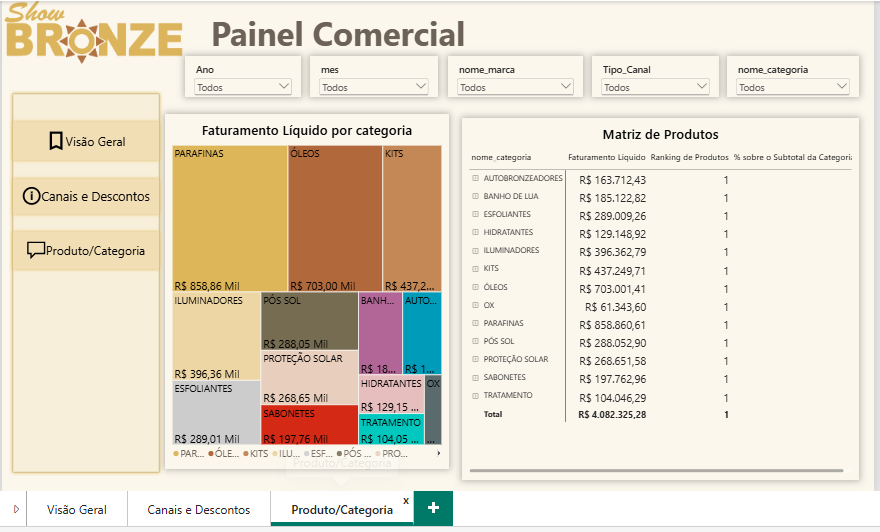

The page's visual inventory and layout, read from the dashboard file:
{"tool":"powerbi","page":{"name":"Produto/Categoria","canvas":[1920,1080],"ordinal":2},"visuals":[{"type":"image","box":[0,0,403.3,138.9],"z":0},{"type":"textbox","box":[447.4,22,586.3,99.2],"z":1000},{"type":"slicer","fields":{"Values":["dim_data.ano"]},"box":[403.3,121.2,255.7,90.4],"z":2000},{"type":"slicer","fields":{"Values":["dim_data.mes"]},"box":[678.9,121.2,282.1,90.4],"z":3000},{"type":"slicer","fields":{"Values":["dim_marca.nome_marca"]},"box":[983,121.2,297.6,90.4],"z":4000},{"type":"slicer","fields":{"Values":["dim_loja.tipo_canal"]},"box":[1300.4,121.2,279.9,90.4],"z":5000},{"type":"slicer","fields":{"Values":["dim_categoria.nome_categoria"]},"box":[1598,121.2,290.9,90.4],"z":6000},{"type":"treemap","title":"Faturamento Líquido por categoria","fields":{"Group":["dim_categoria.nome_categoria","dim_produto.nome_produto"],"Values":["Medidas.Faturamento Líquido"]},"box":[359.3,249.1,626,782.4],"z":7000},{"type":"pivotTable","title":"Matriz de Produtos","fields":{"Rows":["dim_categoria.nome_categoria","dim_produto.nome_produto"],"Values":["Medidas.Faturamento Líquido","Medidas.Ranking de Produtos","Medidas.% sobre o Subtotal da Categoria"]},"box":[1013.9,257.9,875,797.9],"z":8000},{"type":"shape","box":[15.4,196.2,339.4,850.8],"z":9000},{"type":"actionButton","box":[15.4,257.9,339.4,101.4],"z":10000},{"type":"actionButton","box":[15.4,383.5,339.4,94.8],"z":11000},{"type":"actionButton","box":[15.4,500.3,339.4,99.2],"z":12000}]}

Visuals, with their boxes on the page's 1920x1080 design canvas (x1, y1, x2, y2). These are canvas units, not pixel positions in the 880x532 screenshot, which may show the page scaled, cropped or inside an application window:
image: [0, 0, 403, 139]
textbox: [447, 22, 1034, 121]
slicer - dim_data.ano: [403, 121, 659, 212]
slicer - dim_data.mes: [679, 121, 961, 212]
slicer - dim_marca.nome_marca: [983, 121, 1281, 212]
slicer - dim_loja.tipo_canal: [1300, 121, 1580, 212]
slicer - dim_categoria.nome_categoria: [1598, 121, 1889, 212]
"Faturamento Líquido por categoria" treemap: [359, 249, 985, 1032]
"Matriz de Produtos" pivotTable: [1014, 258, 1889, 1056]
shape: [15, 196, 355, 1047]
actionButton: [15, 258, 355, 359]
actionButton: [15, 384, 355, 478]
actionButton: [15, 500, 355, 600]
